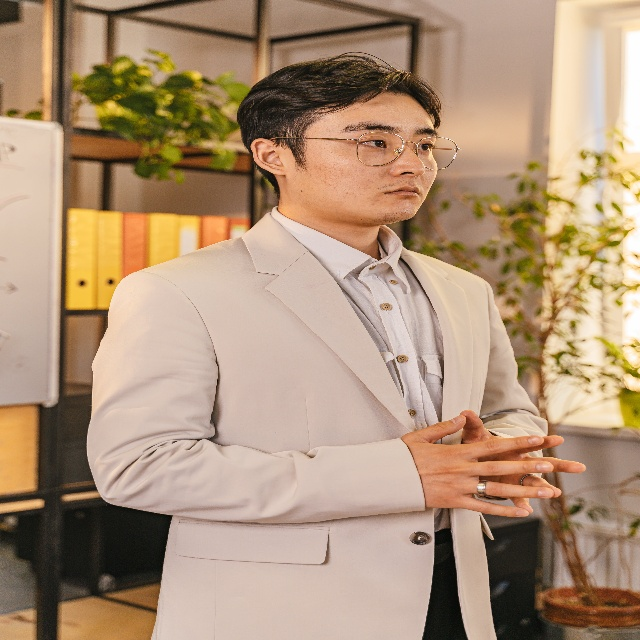Gafas: (353, 123, 461, 173)
Sin_guantes: (409, 409, 557, 525), (464, 407, 587, 528)
